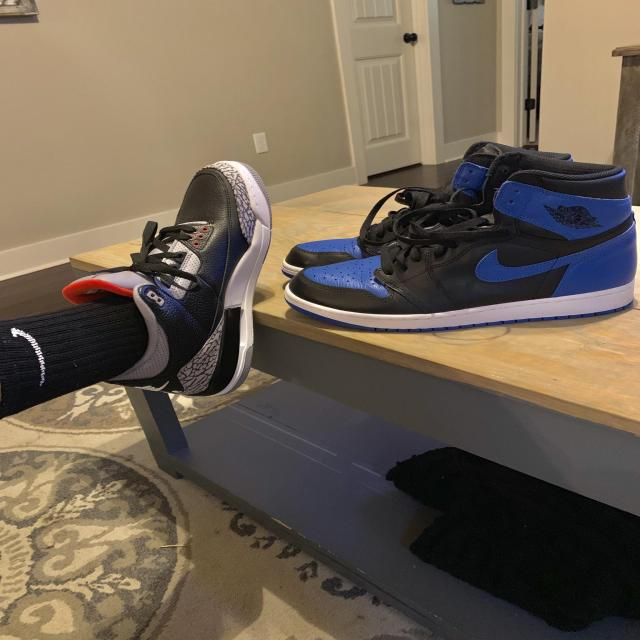shoe: (274, 130, 640, 348), (46, 145, 278, 414)
